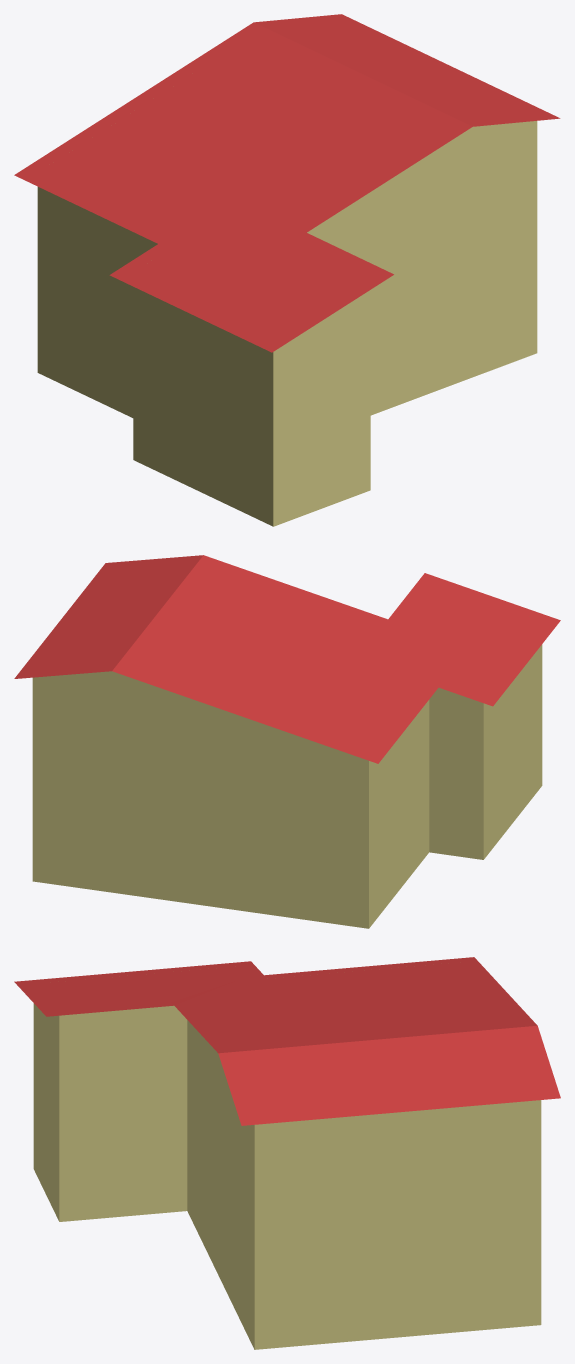
3 renders of one model, top to bottom at view 1: azimuth 30°, elevation 25°; view 2: azimuth 150°, elevation 25°; view 3: azimuth 270°, elevation 25°, orthographic. The views are drawn at different scales.
Size of the model in its own units: 15.31 by 16.45 by 8.52.
